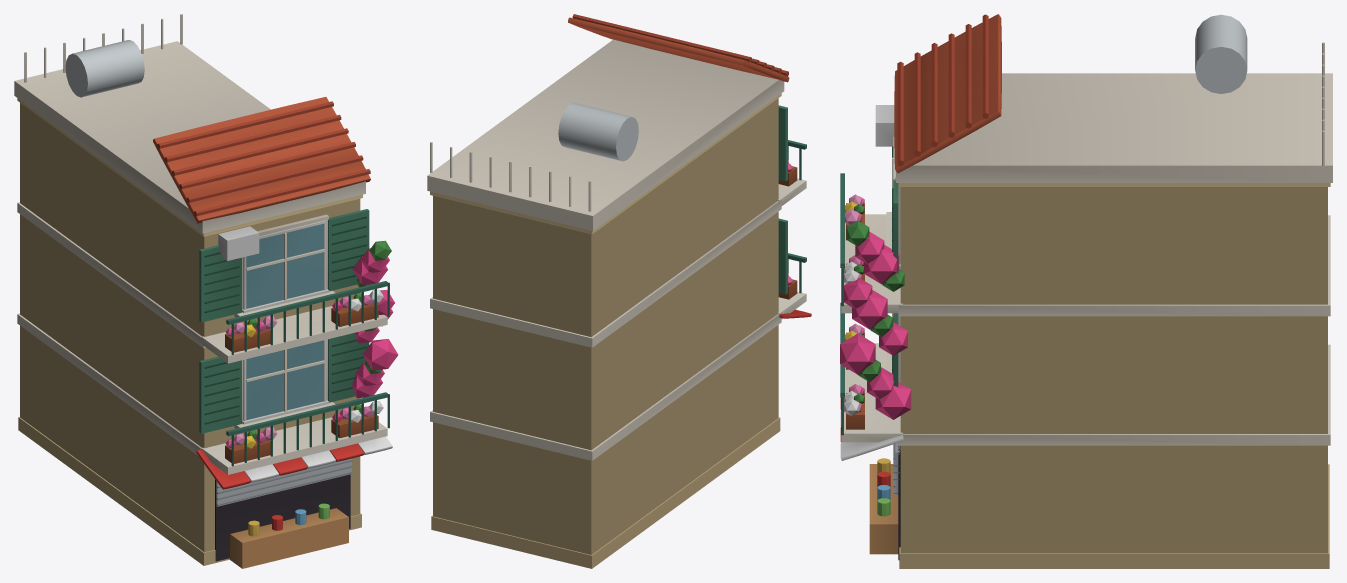
Rendered from hs-sjtrmz.glb.
The picture shows the model from 3 angles, left to right: view 1: azimuth 30°, elevation 25°; view 2: azimuth 150°, elevation 25°; view 3: azimuth 270°, elevation 25°; orthographic projection. The views are drawn at different scales.
Size of the model in its own units: 5.07 by 10.95 by 10.37.
